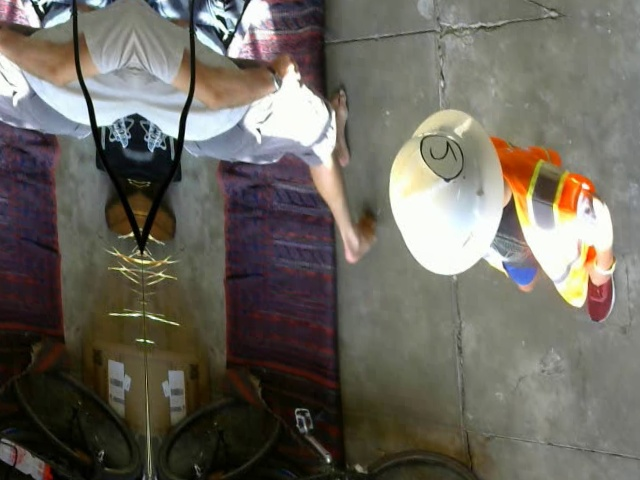two: (419, 130, 463, 182)
